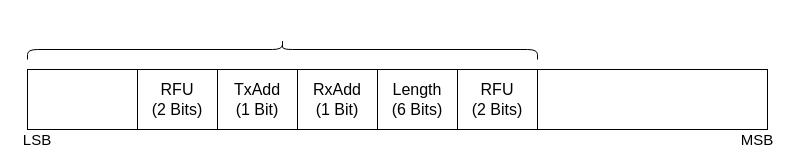
This 794x166 diagram has some shape labels left out. Each missing label, with the centre of its shape:
"Header (16 Bits)" goes at [282,49].
"Payload (6 ... 37 Bytes)" goes at [652,99].
"PDU Type (4 Bits)" goes at [82,99].
